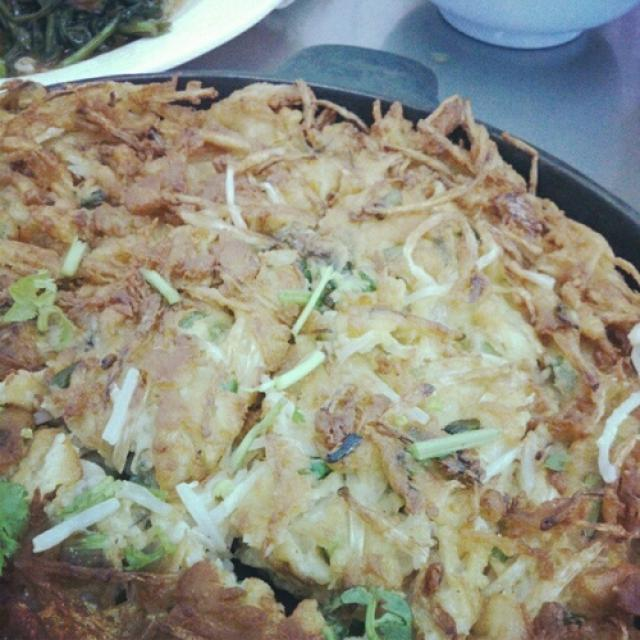炸货点心: (5, 40, 627, 626)
蛋糕甜品: (5, 40, 627, 626)
